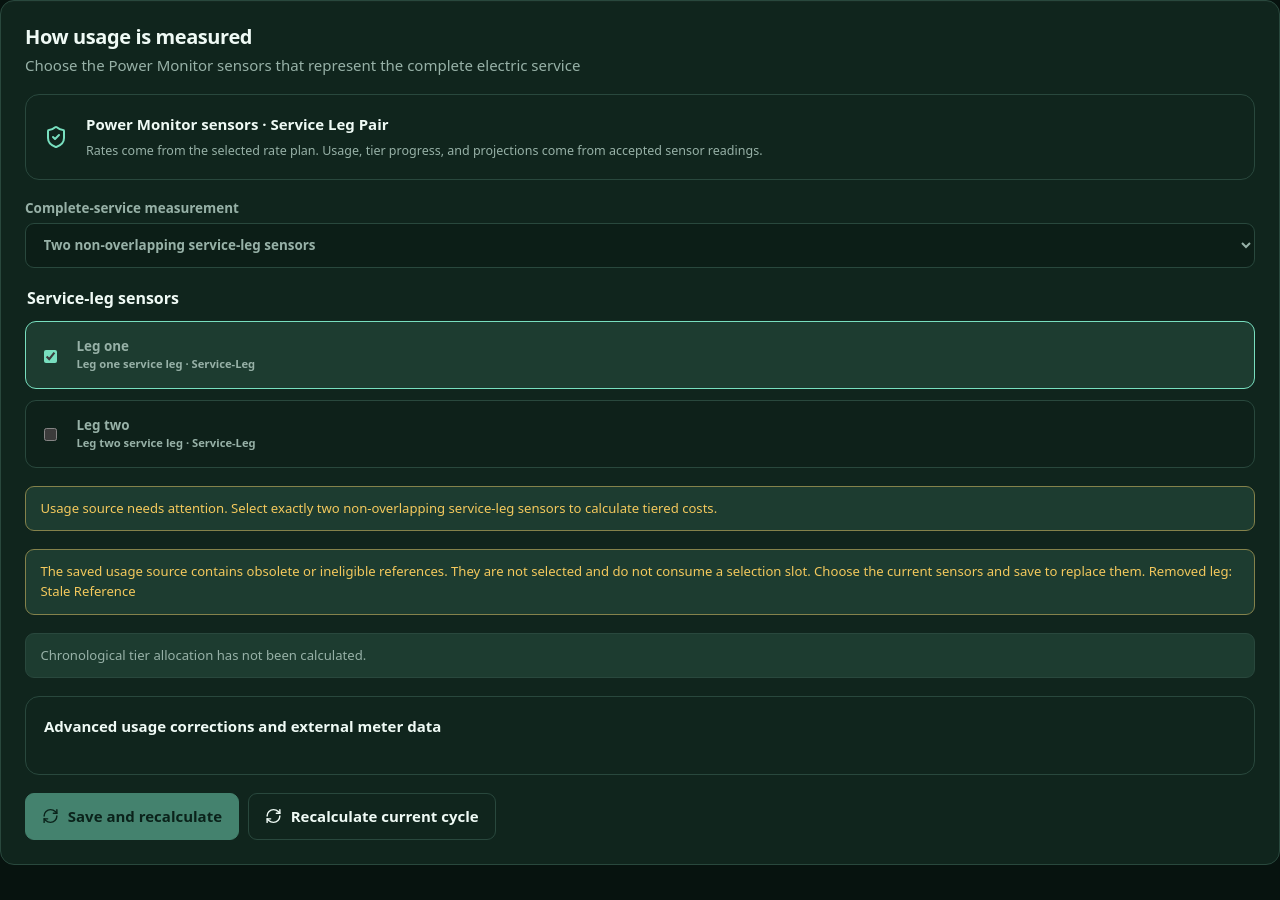
Scenario: sensor topology and tier allocation setup › does not count a stale hidden authority ID against the service-leg limit
expect the text "saved usage source contains obsolete" is shown: met, box [40,562,1145,580]
expect the checkbox labelled "Leg one Leg one service leg · Service-Leg" is checked: met, box [44,350,57,362]
Click the checkbox labelled "Leg two Leg two service leg · Service-Leg" at (51, 435), box [44,428,57,441]
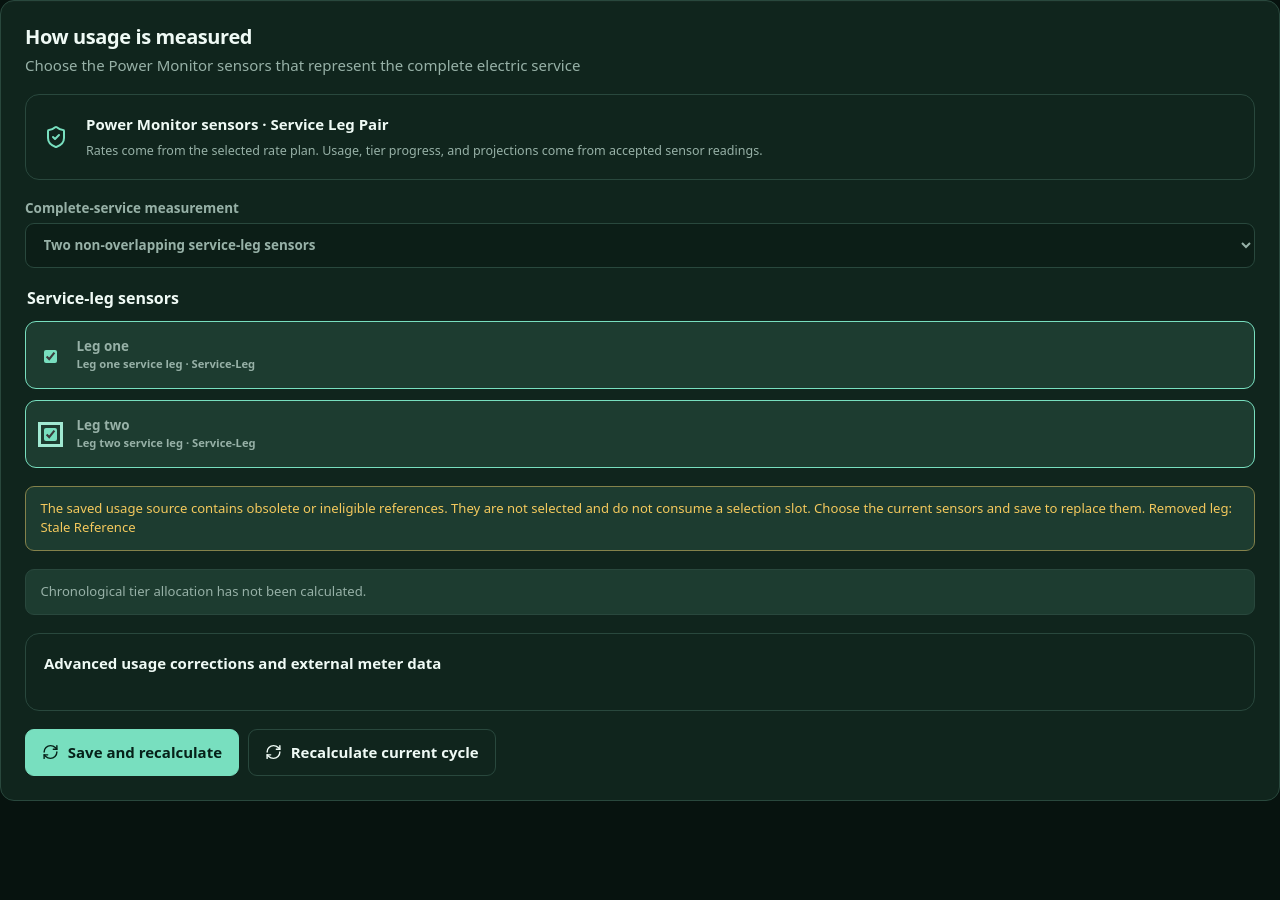
expect the button "Save and recalculate" is enabled: met, box [25,729,239,776]
